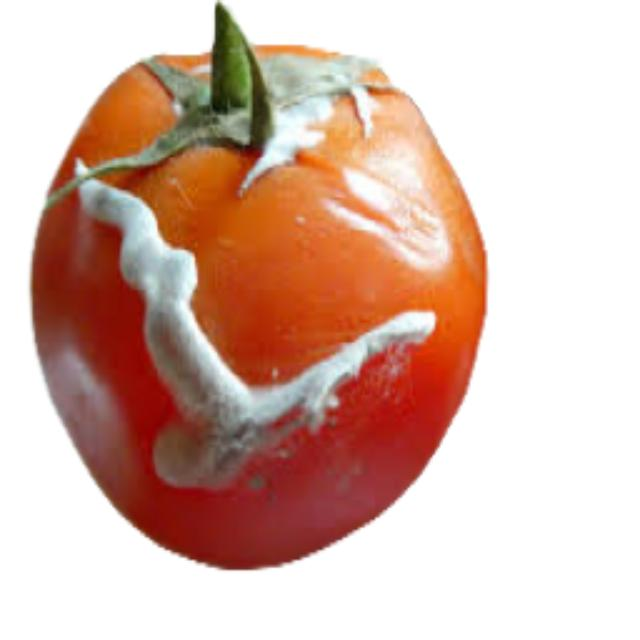defect: (23, 0, 492, 567)
